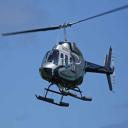helicopter: (25, 7, 128, 110)
